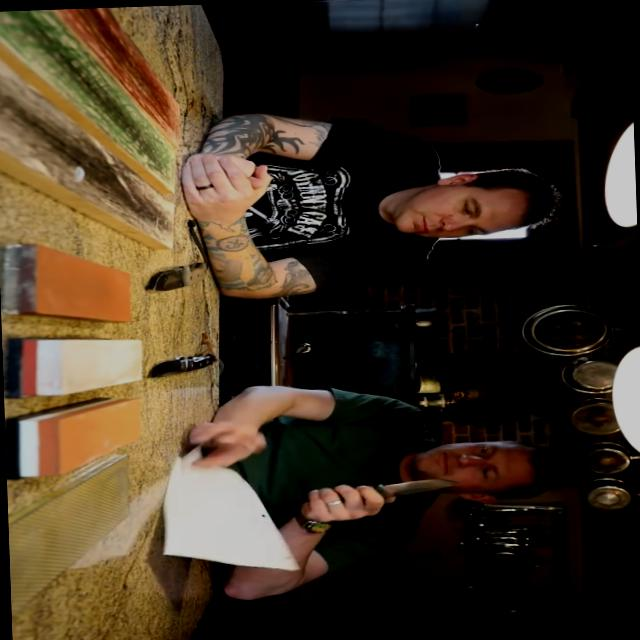knife: (329, 471, 472, 522)
